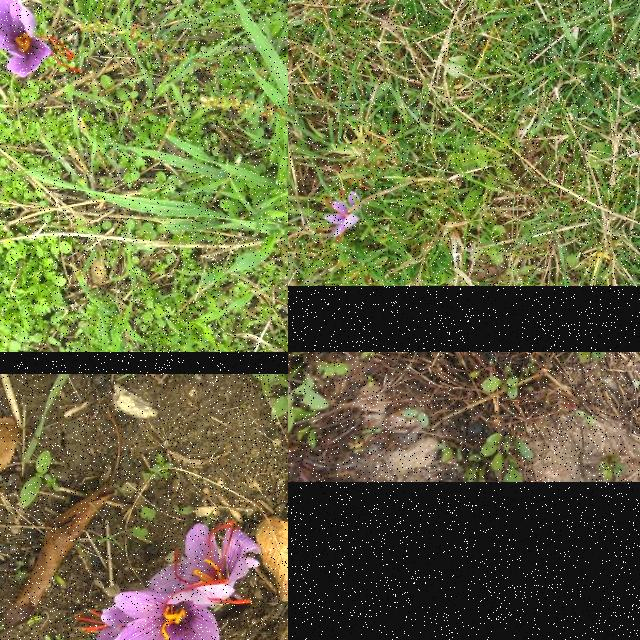flower: (0, 0, 83, 77), (323, 192, 363, 240)
overlap: (80, 520, 260, 640)
